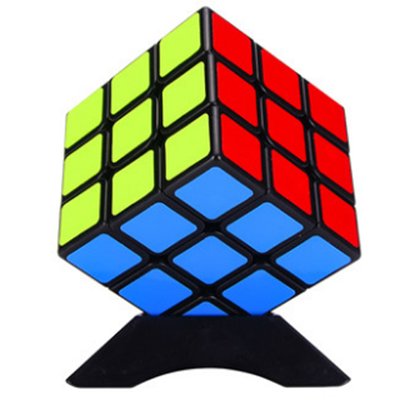cube: (43, 1, 378, 338)
